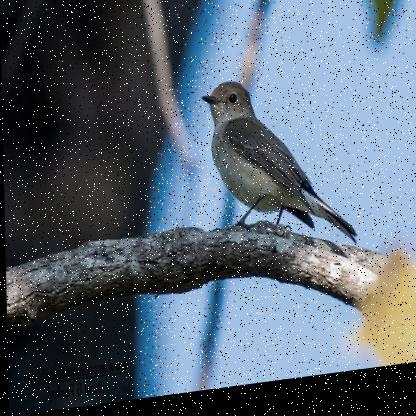Burung: (197, 69, 367, 281)
